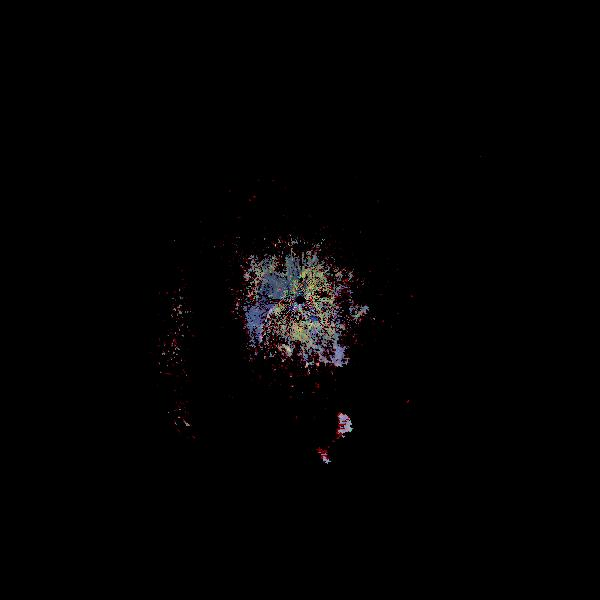roost: (208, 290, 397, 479)
